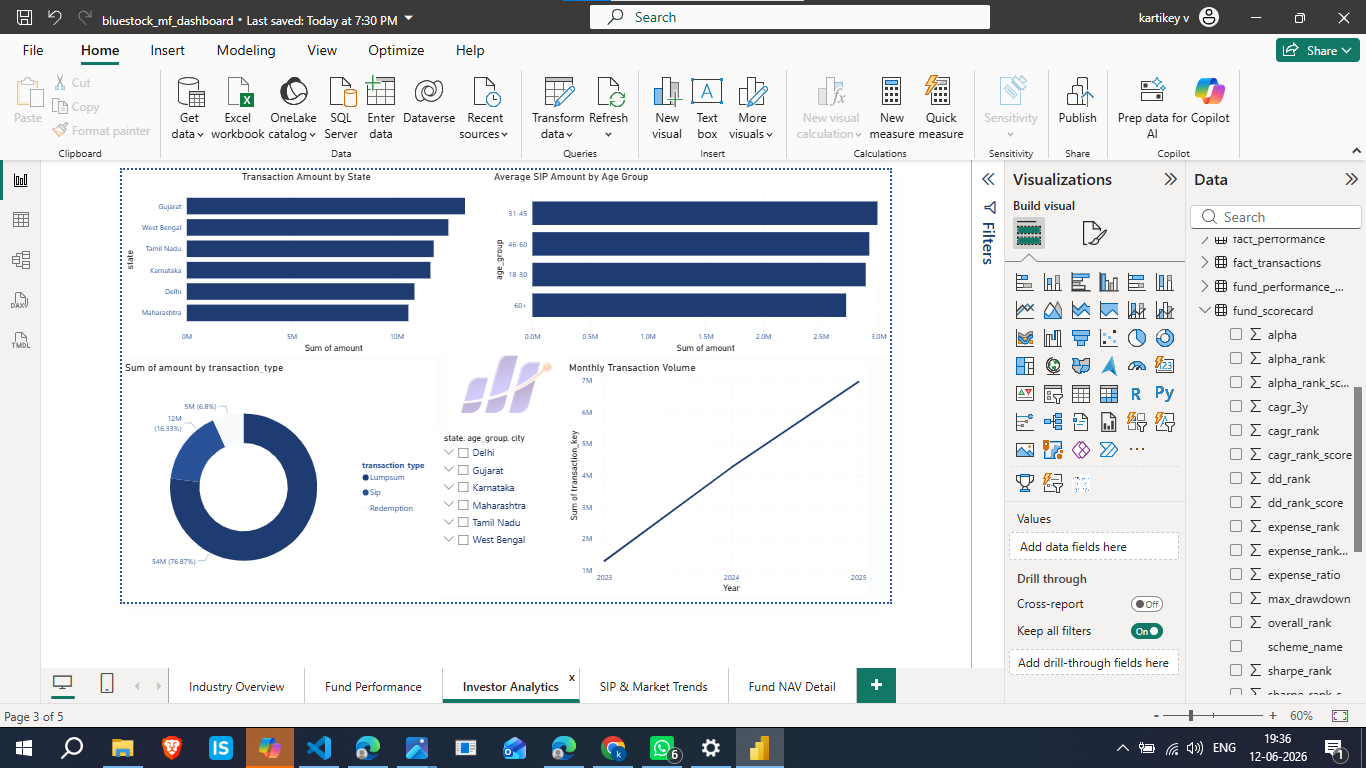

Layout of this report page (visuals, bound fields, positions):
{"tool":"powerbi","page":{"name":" Investor Analytics","canvas":[1280,720],"ordinal":2},"visuals":[{"type":"barChart","title":"Transaction Amount by State","fields":{"Category":["fact_transactions.state"],"Y":["Sum(fact_transactions.amount)"]},"box":[0,0,614.8,309.1],"z":0},{"type":"donutChart","fields":{"Category":["fact_transactions.transaction_type"],"Y":["Sum(fact_transactions.amount)"]},"box":[0,319.2,524.1,401.5],"z":1},{"type":"clusteredBarChart","title":"Average SIP Amount by Age Group","fields":{"Category":["fact_transactions.age_group"],"Y":["Sum(fact_transactions.amount)"]},"box":[614.8,0,665.2,309.1],"z":2},{"type":"lineChart","title":"Monthly Transaction Volume","fields":{"Category":["dim_date.full_date.Variation.Date Hierarchy.Year","dim_date.full_date.Variation.Date Hierarchy.Quarter","dim_date.full_date.Variation.Date Hierarchy.Month","dim_date.full_date.Variation.Date Hierarchy.Day"],"Y":["Sum(fact_transactions.transaction_key)"]},"box":[740.8,319.2,505.6,391.4],"z":3},{"type":"slicer","fields":{"Values":["fact_transactions.state","fact_transactions.age_group","fact_transactions.city"]},"box":[524.1,433.4,216.7,277.2],"z":4}]}

Visuals, with their boxes on the page's 1280x720 design canvas (x1, y1, x2, y2). These are canvas units, not pixel positions in the 1366x768 screenshot, which may show the page scaled, cropped or inside an application window:
"Transaction Amount by State" barChart: {"left": 0, "top": 0, "right": 615, "bottom": 309}
donutChart - fact_transactions.transaction_type x Sum(fact_transactions.amount): {"left": 0, "top": 319, "right": 524, "bottom": 721}
"Average SIP Amount by Age Group" clusteredBarChart: {"left": 615, "top": 0, "right": 1280, "bottom": 309}
"Monthly Transaction Volume" lineChart: {"left": 741, "top": 319, "right": 1246, "bottom": 711}
slicer - fact_transactions.state x fact_transactions.age_group: {"left": 524, "top": 433, "right": 741, "bottom": 711}
